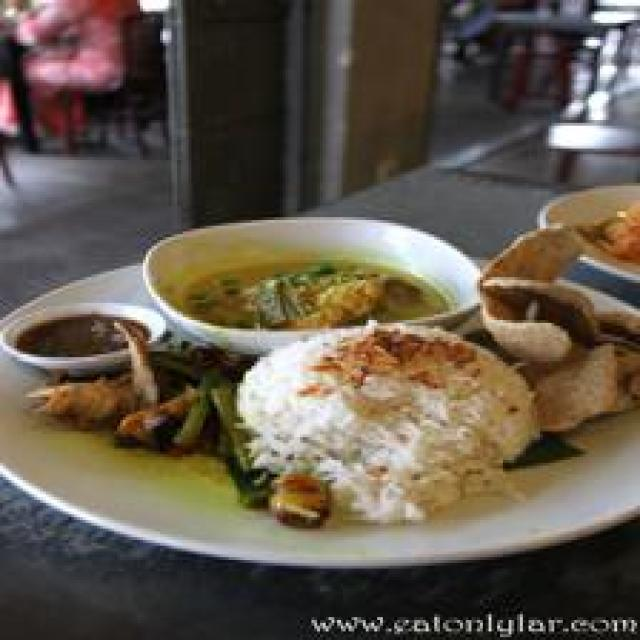Wet Waste: (227, 324, 546, 532)
